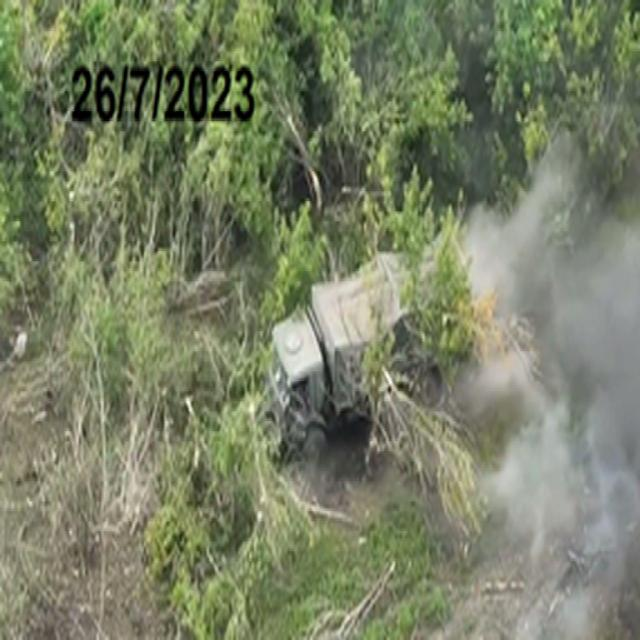TRUCK: (251, 224, 470, 469)
